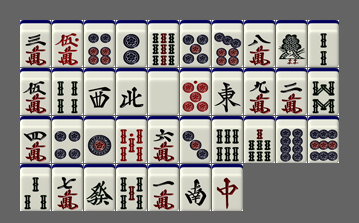0m: (52, 20, 83, 67)
0p: (180, 68, 211, 115)
0s: (116, 116, 147, 163)
1m: (148, 164, 179, 211)
1p: (84, 116, 115, 163)
1s: (276, 20, 307, 67)
1z: (212, 68, 243, 115)
2m: (276, 68, 307, 115)
2p: (116, 20, 147, 67)
2s: (308, 20, 339, 67)
2z: (180, 164, 211, 211)
3m: (20, 20, 51, 67)
3p: (180, 116, 211, 163)
3s: (20, 164, 51, 211)
3z: (84, 68, 115, 115)
4m: (20, 116, 51, 163)
4p: (52, 116, 83, 163)
4s: (52, 68, 83, 115)
4z: (116, 68, 147, 115)
5m: (20, 68, 51, 115)
5p: (180, 20, 211, 67)
5s: (116, 164, 147, 211)
5z: (148, 68, 179, 115)
6m: (148, 116, 179, 163)
6p: (84, 20, 115, 67)
6s: (212, 116, 243, 163)
6z: (84, 164, 115, 211)
7m: (52, 164, 83, 211)
7p: (212, 20, 243, 67)
7s: (244, 116, 275, 163)
7z: (212, 164, 243, 211)
8m: (244, 20, 275, 67)
8p: (276, 116, 307, 163)
8s: (308, 68, 339, 115)
9m: (244, 68, 275, 115)
9p: (308, 116, 339, 163)
9s: (148, 20, 179, 67)
